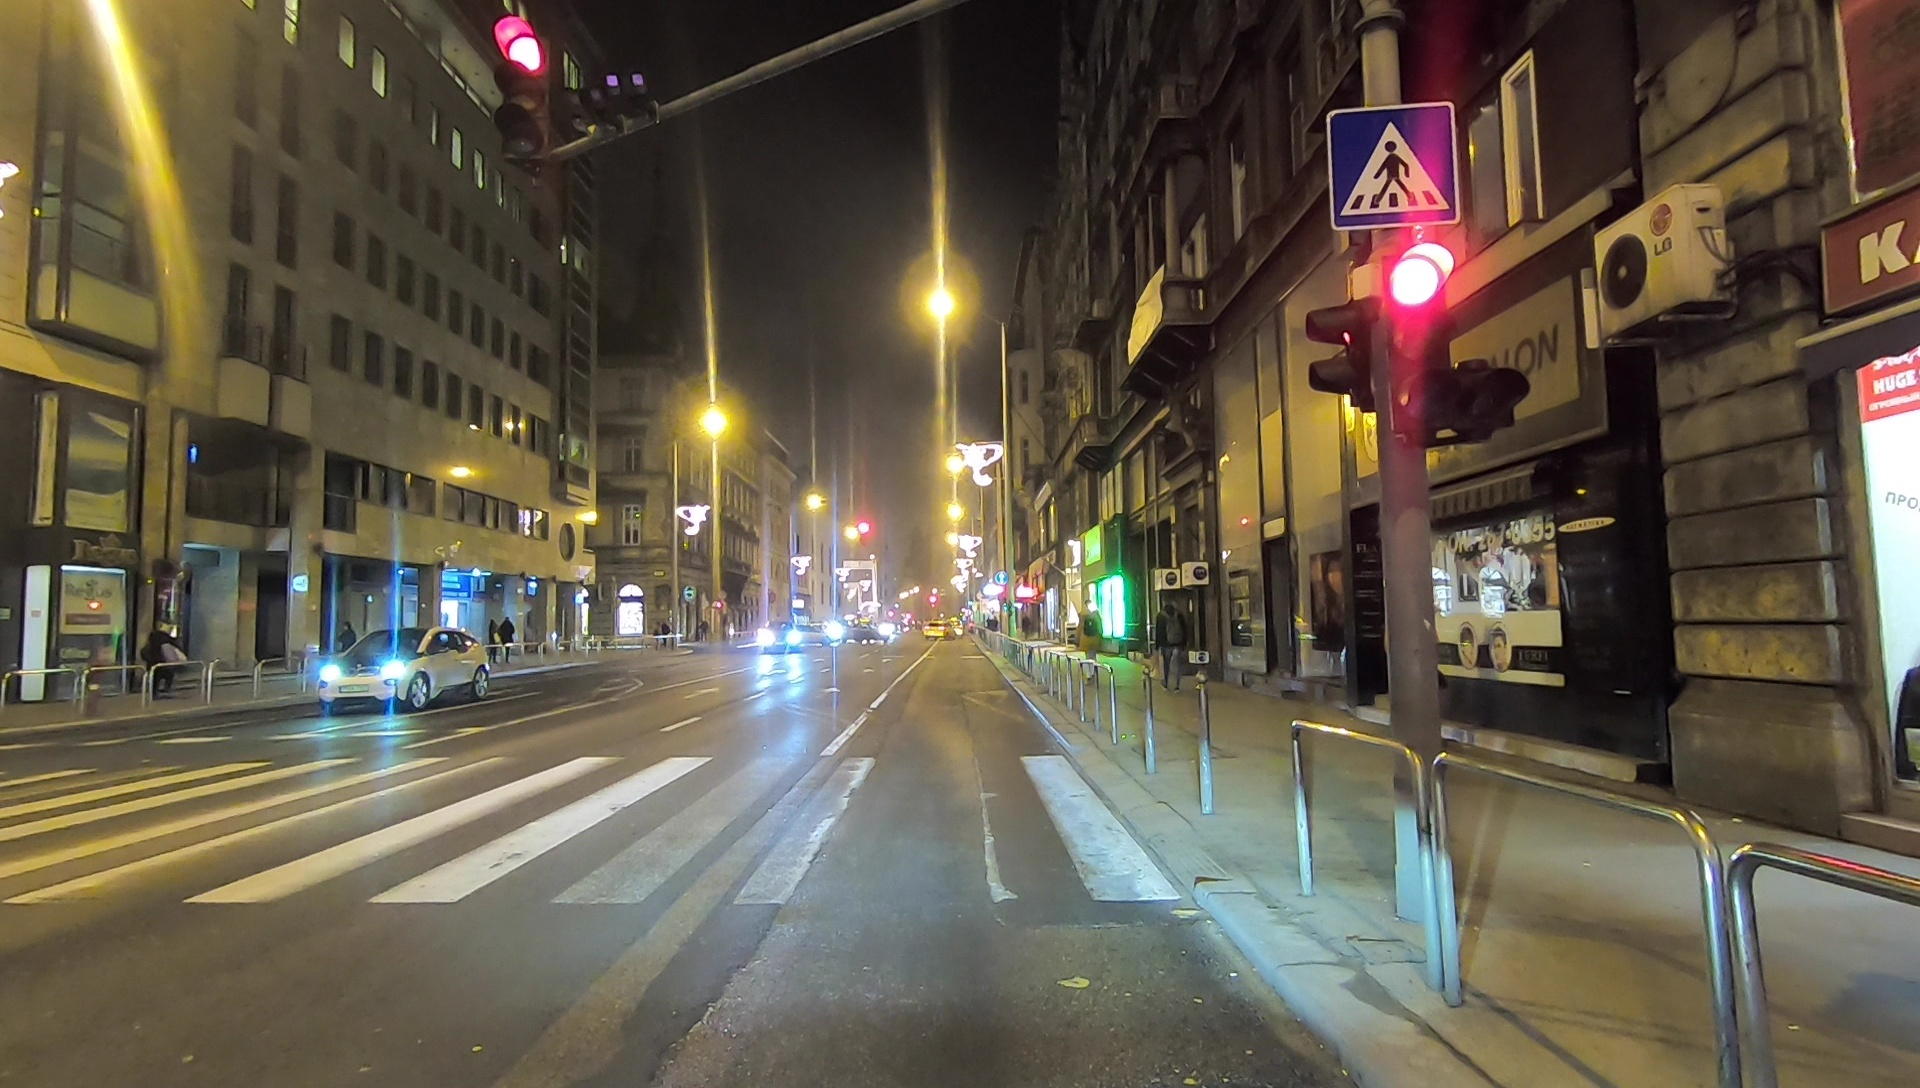person: (141, 620, 175, 699), (1156, 603, 1186, 691), (1073, 600, 1104, 685), (336, 623, 355, 680), (487, 620, 499, 663), (503, 618, 513, 662), (661, 620, 670, 645), (1020, 612, 1029, 636)
